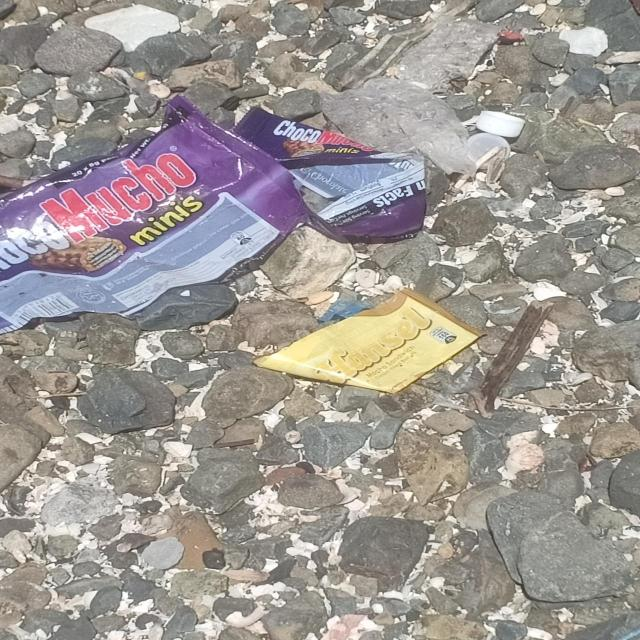plastic_waste: (1, 98, 425, 335), (249, 286, 484, 392)
